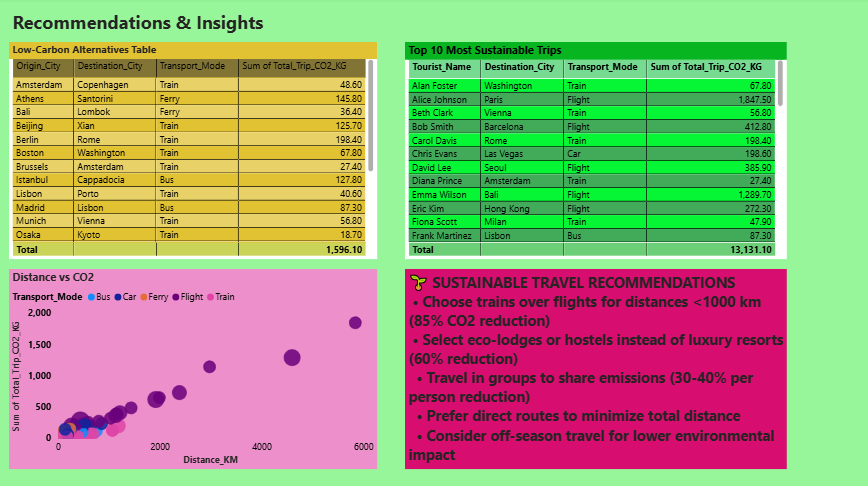

What the dashboard file says about the page in this screenshot:
{"tool":"powerbi","page":{"name":"Recommendations & Insights","canvas":[1280,720],"ordinal":2},"visuals":[{"type":"tableEx","title":"Low-Carbon Alternatives Table","fields":{"Values":["tourist_carbon_data.Origin_City","tourist_carbon_data.Destination_City","tourist_carbon_data.Transport_Mode","tourist_carbon_data.Total_Trip_CO2_KG"]},"box":[16.8,65.5,540.9,319.2],"z":0},{"type":"scatterChart","title":"Distance vs CO2","fields":{"X":["tourist_carbon_data.Distance_KM"],"Y":["tourist_carbon_data.Total_Trip_CO2_KG"],"Series":["tourist_carbon_data.Transport_Mode"],"Size":["tourist_carbon_data.Group_Size"]},"box":[16.8,399.8,540.9,294],"z":1000},{"type":"tableEx","title":"Top 10 Most Sustainable Trips","fields":{"Values":["tourist_carbon_data.Tourist_Name","tourist_carbon_data.Destination_City","tourist_carbon_data.Transport_Mode","tourist_carbon_data.Total_Trip_CO2_KG"]},"box":[598,65.5,561,319.2],"z":2000},{"type":"textbox","box":[598,399.8,561,294],"z":3000},{"type":"textbox","box":[16.8,13.4,391.4,52.1],"z":4000}]}

Visuals, with their boxes in screenshot pixels (x1, y1, x2, y2), scaled from the page's 1280x720 canvas onto the 868x486 screenshot:
"Low-Carbon Alternatives Table" tableEx: select_region(11, 44, 378, 260)
"Distance vs CO2" scatterChart: select_region(11, 270, 378, 468)
"Top 10 Most Sustainable Trips" tableEx: select_region(406, 44, 786, 260)
textbox: select_region(406, 270, 786, 468)
textbox: select_region(11, 9, 277, 44)
